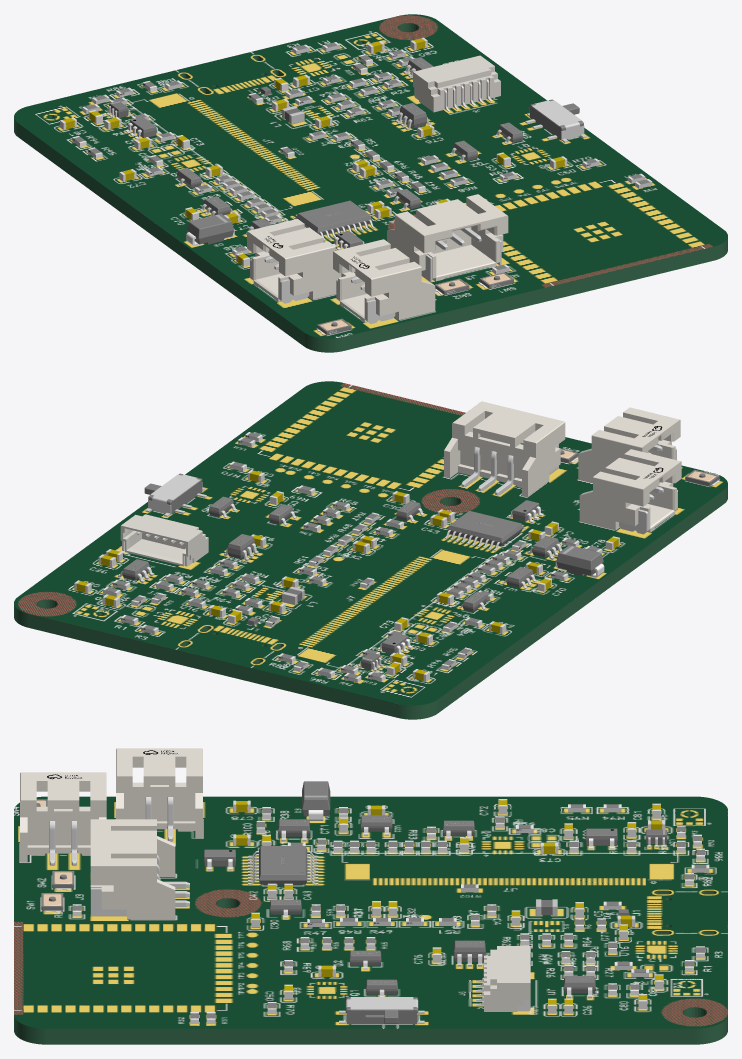
The model's file is incomplete-export-board.glb.
The picture shows the model from 3 angles, top to bottom: view 1: azimuth 30°, elevation 25°; view 2: azimuth 150°, elevation 25°; view 3: azimuth 270°, elevation 25°; orthographic projection. The views are drawn at different scales.
Visible parts, largest first — view 1: Box0, J3, J4, J8, J6, U14, SW5, D3, U25; view 2: Box0, J3, J8, J4, J6, U14, SW5, D3, U25; view 3: Box0, J3, J8, J4, J6, U14, SW5, D3, U25, U7, U23, U26 (+6 smaller).
Boxes of the visible parts, x1=… form: Box0: x1=14, y1=14, x2=727, y2=352; J3: x1=387, y1=194, x2=508, y2=282; J4: x1=333, y1=239, x2=435, y2=323; J8: x1=247, y1=219, x2=341, y2=303; J6: x1=413, y1=55, x2=500, y2=112; U14: x1=293, y1=200, x2=374, y2=240; SW5: x1=525, y1=99, x2=586, y2=142; D3: x1=186, y1=213, x2=234, y2=246; U25: x1=396, y1=103, x2=430, y2=130; Box0: x1=14, y1=381, x2=727, y2=719; J3: x1=444, y1=401, x2=565, y2=497; J8: x1=579, y1=449, x2=681, y2=534; J4: x1=578, y1=407, x2=680, y2=483; J6: x1=120, y1=514, x2=208, y2=566; U14: x1=444, y1=511, x2=526, y2=550; SW5: x1=144, y1=473, x2=206, y2=516; D3: x1=555, y1=545, x2=604, y2=577; U25: x1=224, y1=534, x2=258, y2=561; Box0: x1=14, y1=796, x2=727, y2=1044; J3: x1=90, y1=819, x2=189, y2=919; J8: x1=116, y1=748, x2=202, y2=841; J4: x1=20, y1=772, x2=106, y2=865; J6: x1=476, y1=946, x2=530, y2=1011; U14: x1=248, y1=846, x2=318, y2=884; SW5: x1=339, y1=997, x2=424, y2=1024; D3: x1=302, y1=781, x2=330, y2=820; U25: x1=454, y1=940, x2=485, y2=966; U7: x1=563, y1=976, x2=595, y2=998; U23: x1=585, y1=828, x2=617, y2=849; U26: x1=278, y1=819, x2=309, y2=841.
Bounding box in the file's own units: 50.56 × 7.1 × 65.
21 materials, 2 textured.
